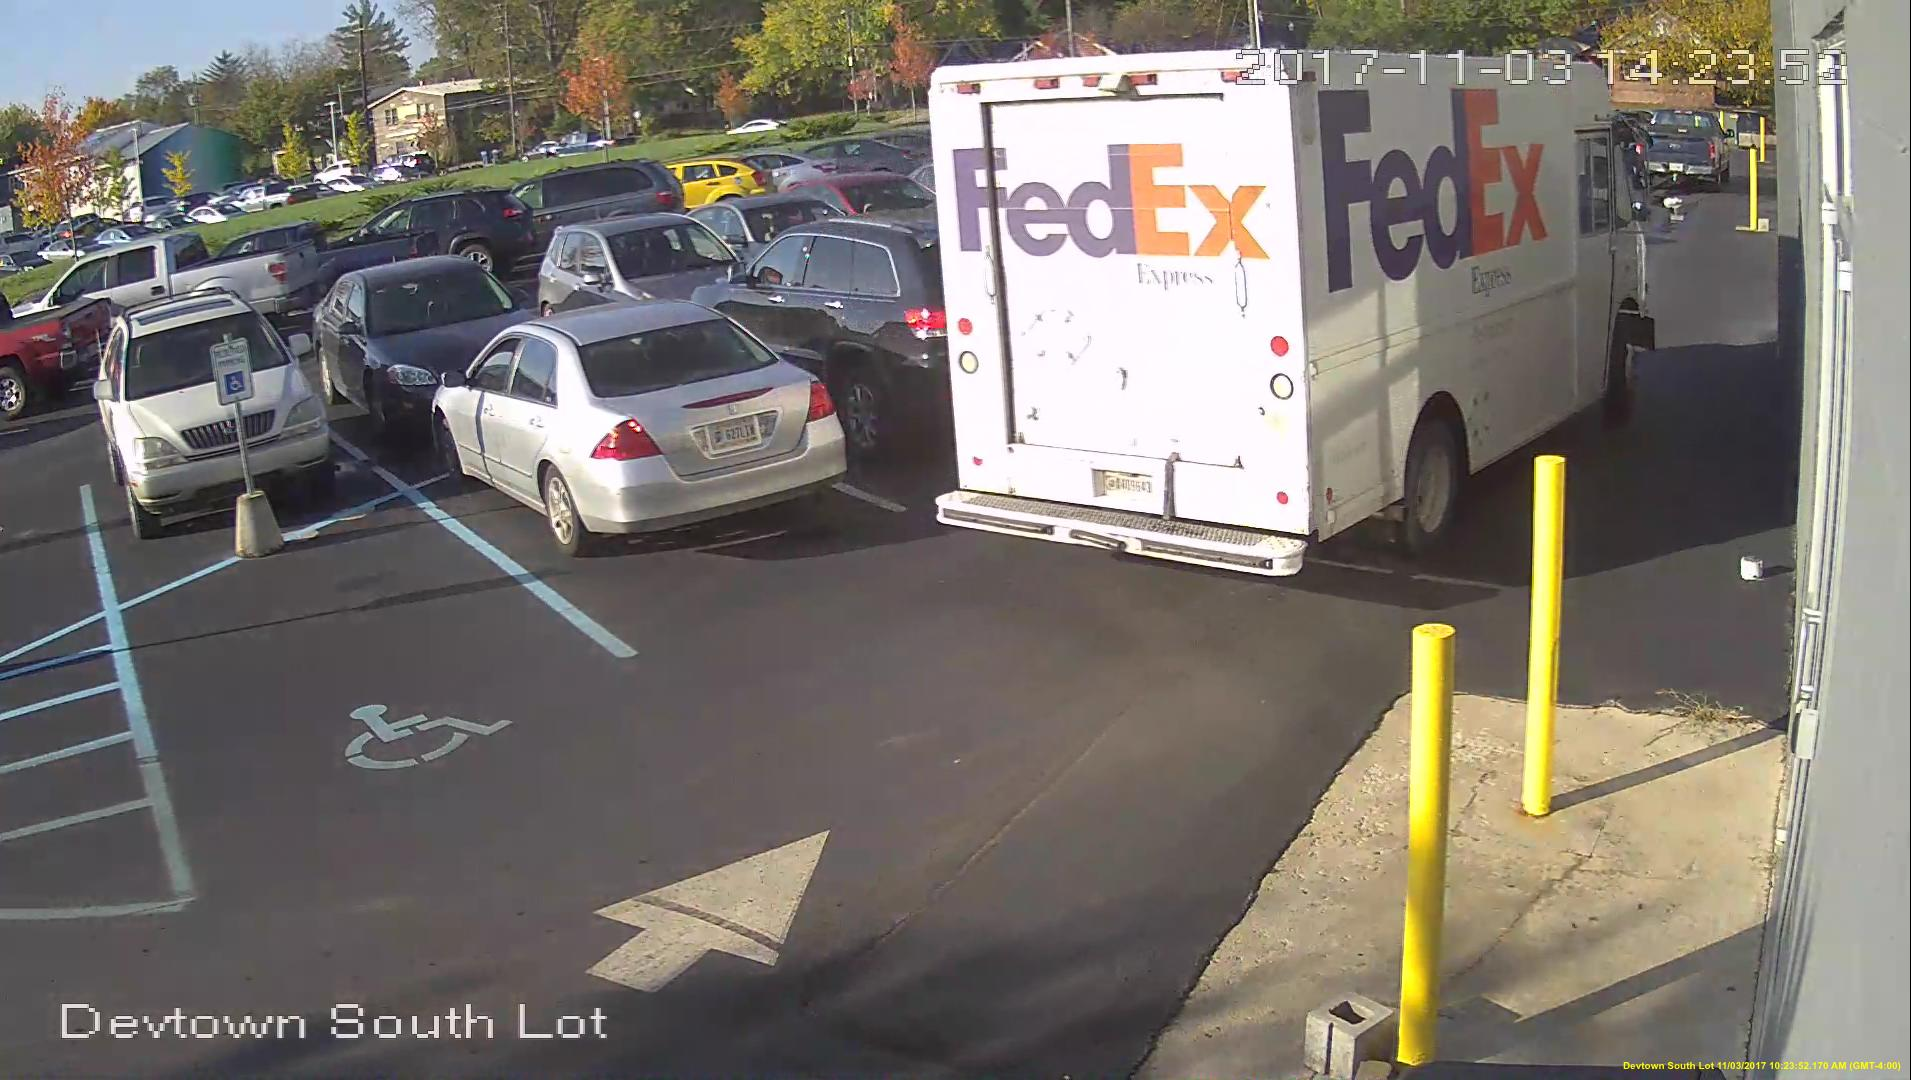fedex_truck: (917, 50, 1660, 584)
